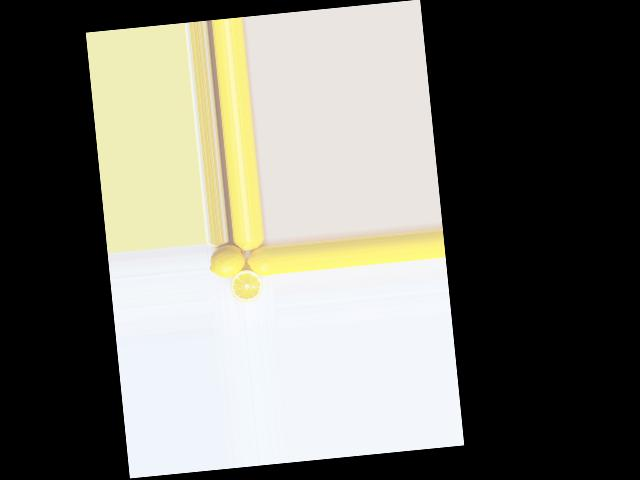lemon: (245, 248, 271, 277)
